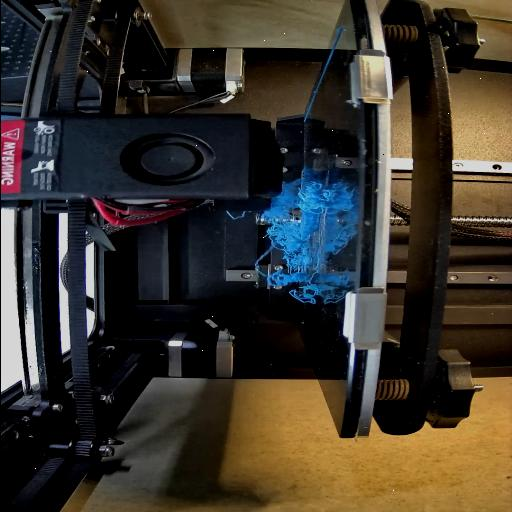spaghetti: (267, 216, 320, 304), (265, 184, 301, 220), (299, 182, 333, 216)
